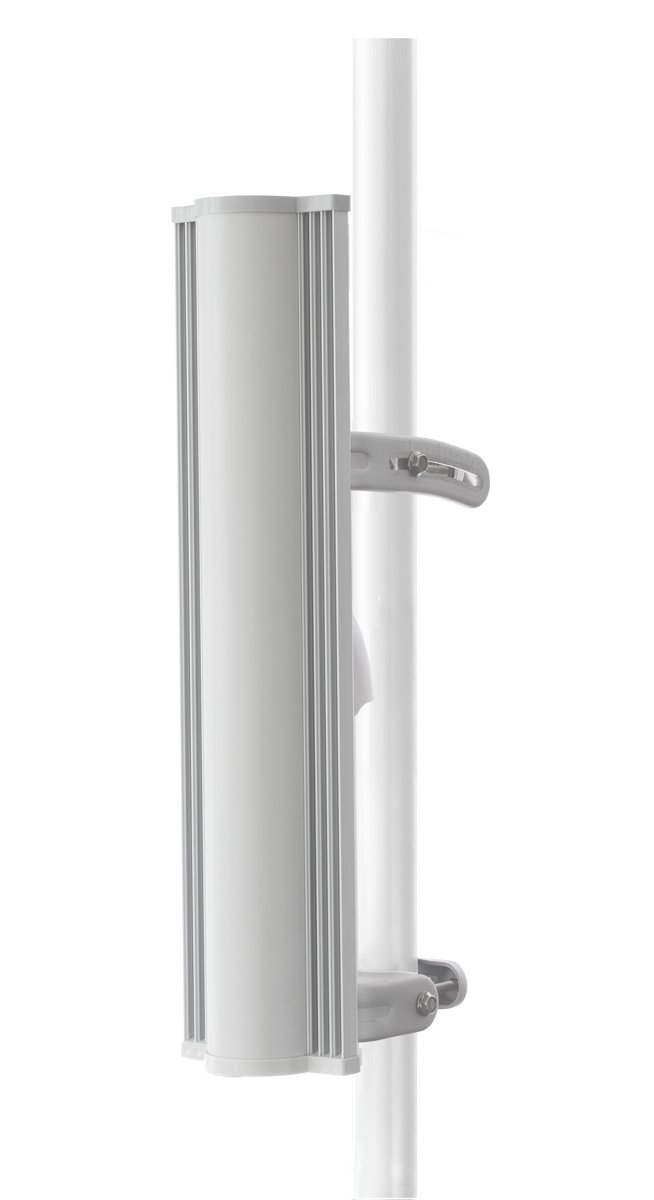sa: (136, 81, 468, 1103)
